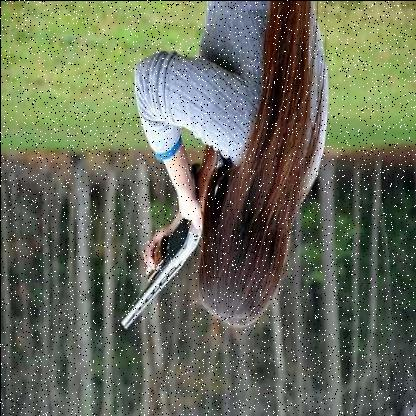rifle: (112, 135, 222, 331)
